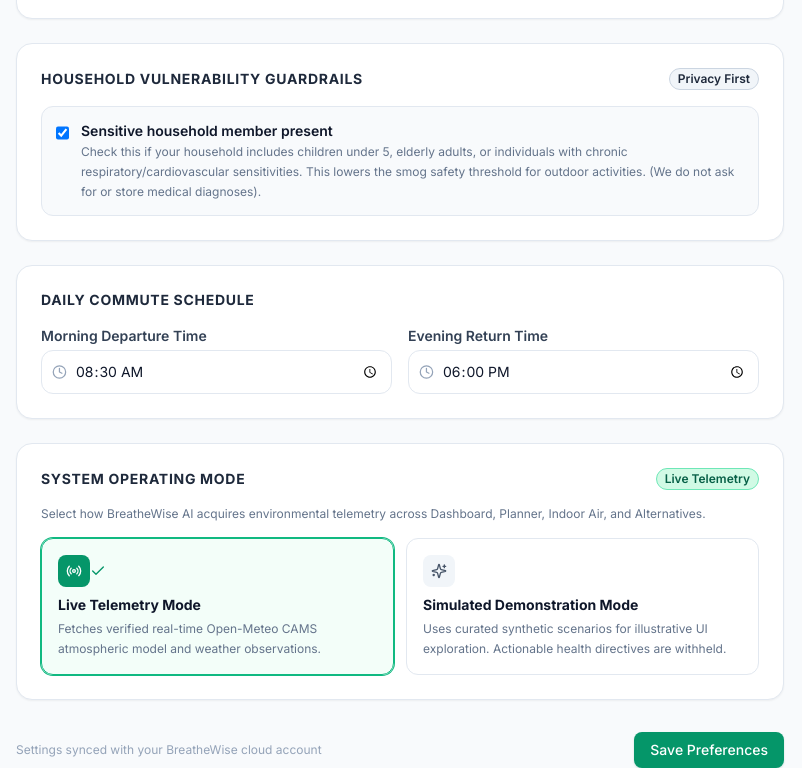
Test: Phase 7.6 — Mode Controls & Final Integration › 3. SettingsPage Mode Controls & Carry-Forward Bug Resolution › 3.4 Cloud save failure displays sanitized error and never displays false success
(page scrolled)
Click the button with test id "save-preferences-button" at coordinates (709, 750), box [634,732,784,767]
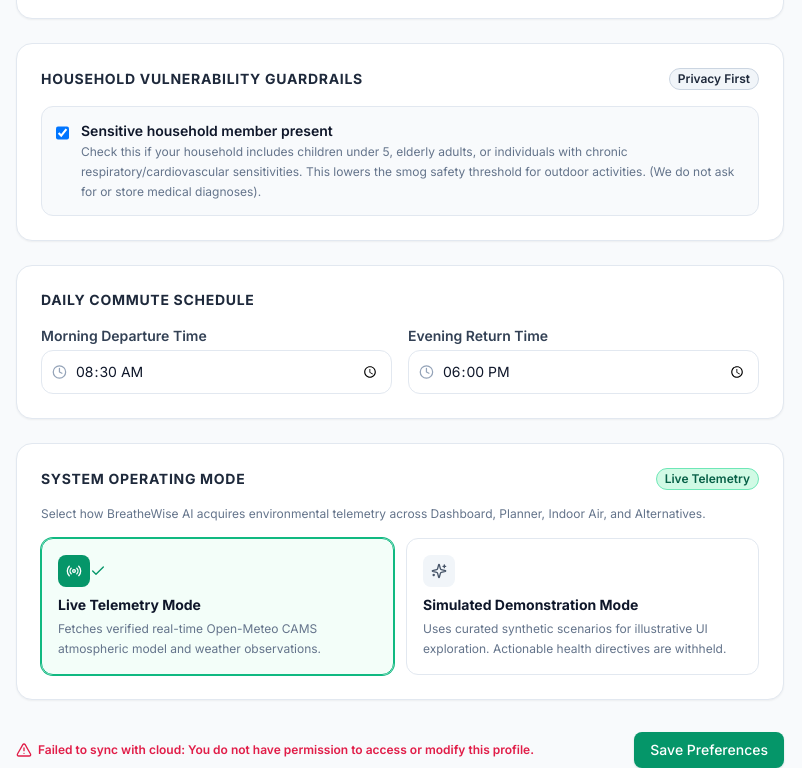
Now the element with test id "save-error-indicator" is shown, box [16,742,534,758]
Now the text "You do not have permission to access or modify this profile" is shown, box [188,742,534,757]
